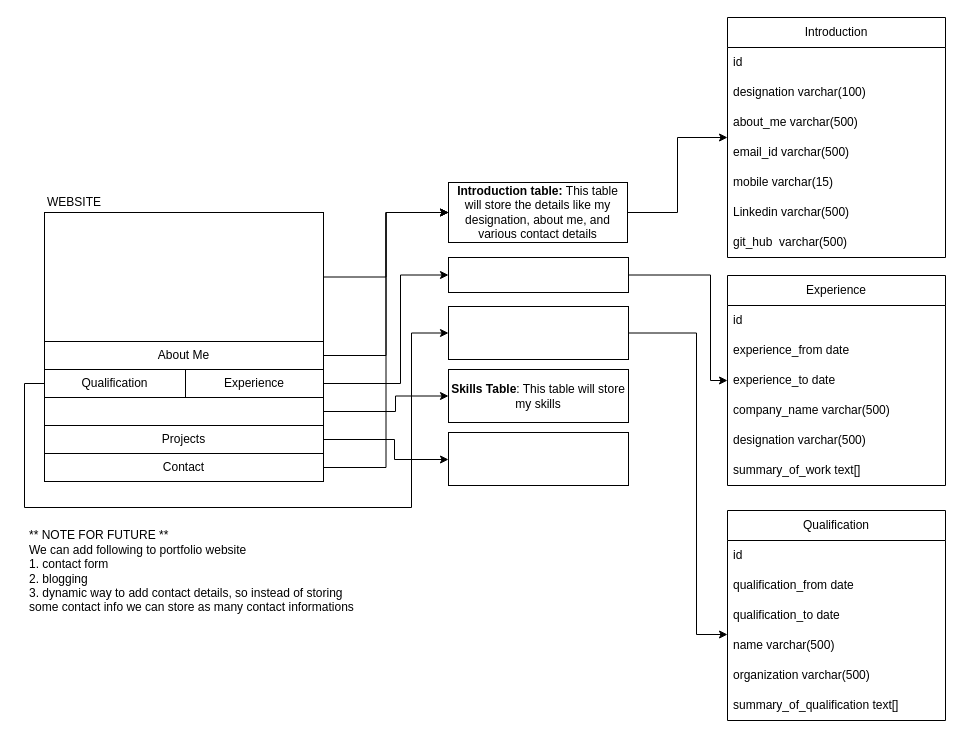
This 963x738 diagram has some shape labels left out. The shapes that lost their labels are listed below. From the top down, each one's centre as x and y in pixels, then its label:
point 184,277: Hello I'm Sanjeet Full stack web developer
point 538,274: Experience table : This table will store my experiences
point 538,333: Qualification table : This table will store my qulifications and cetifications
point 184,411: Skills
point 538,459: Projects Table : This table will store project details
